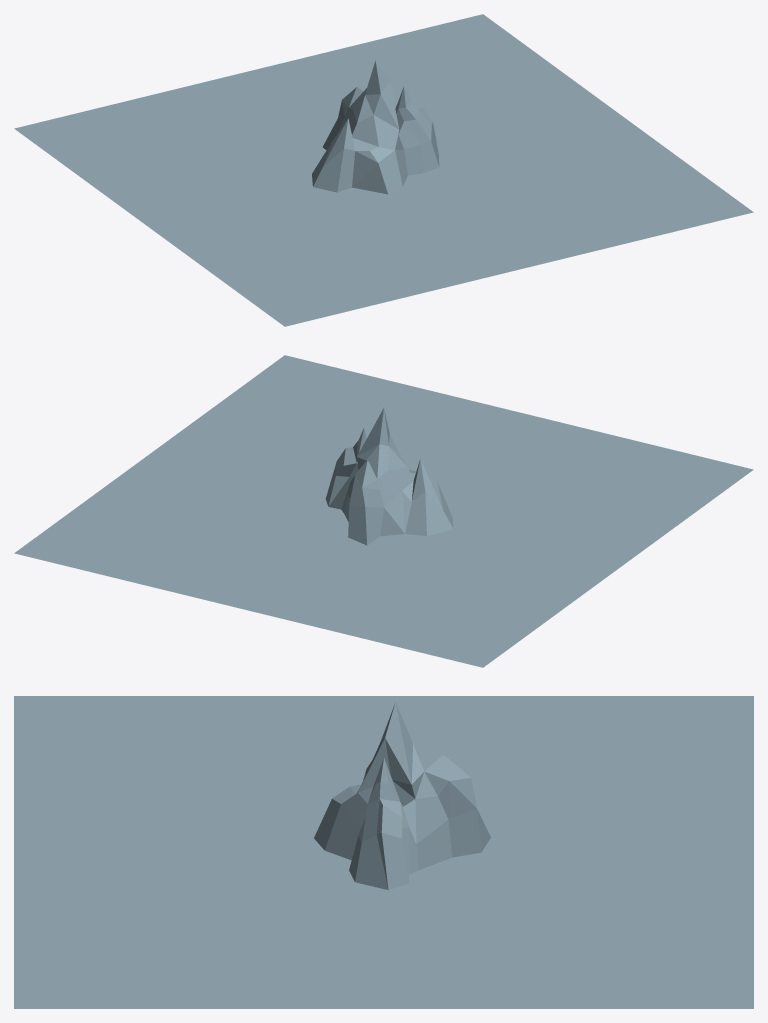
The model's file is Tile 53_Combined.fbx.
3 views of the same model, one above another, from view 1: azimuth 30°, elevation 25°; view 2: azimuth 150°, elevation 25°; view 3: azimuth 270°, elevation 25° (orthographic). The views are drawn at different scales.
Visible parts, largest first — view 1: MeshBaker_mesh_mesh; view 2: MeshBaker_mesh_mesh; view 3: MeshBaker_mesh_mesh.
Boxes of the visible parts, x1,y1,x2,y2 form: MeshBaker_mesh_mesh: (14, 14, 753, 326); MeshBaker_mesh_mesh: (14, 355, 753, 667); MeshBaker_mesh_mesh: (14, 696, 753, 1008).
Bounding box in the file's own units: 3000 × 661 × 3000.
